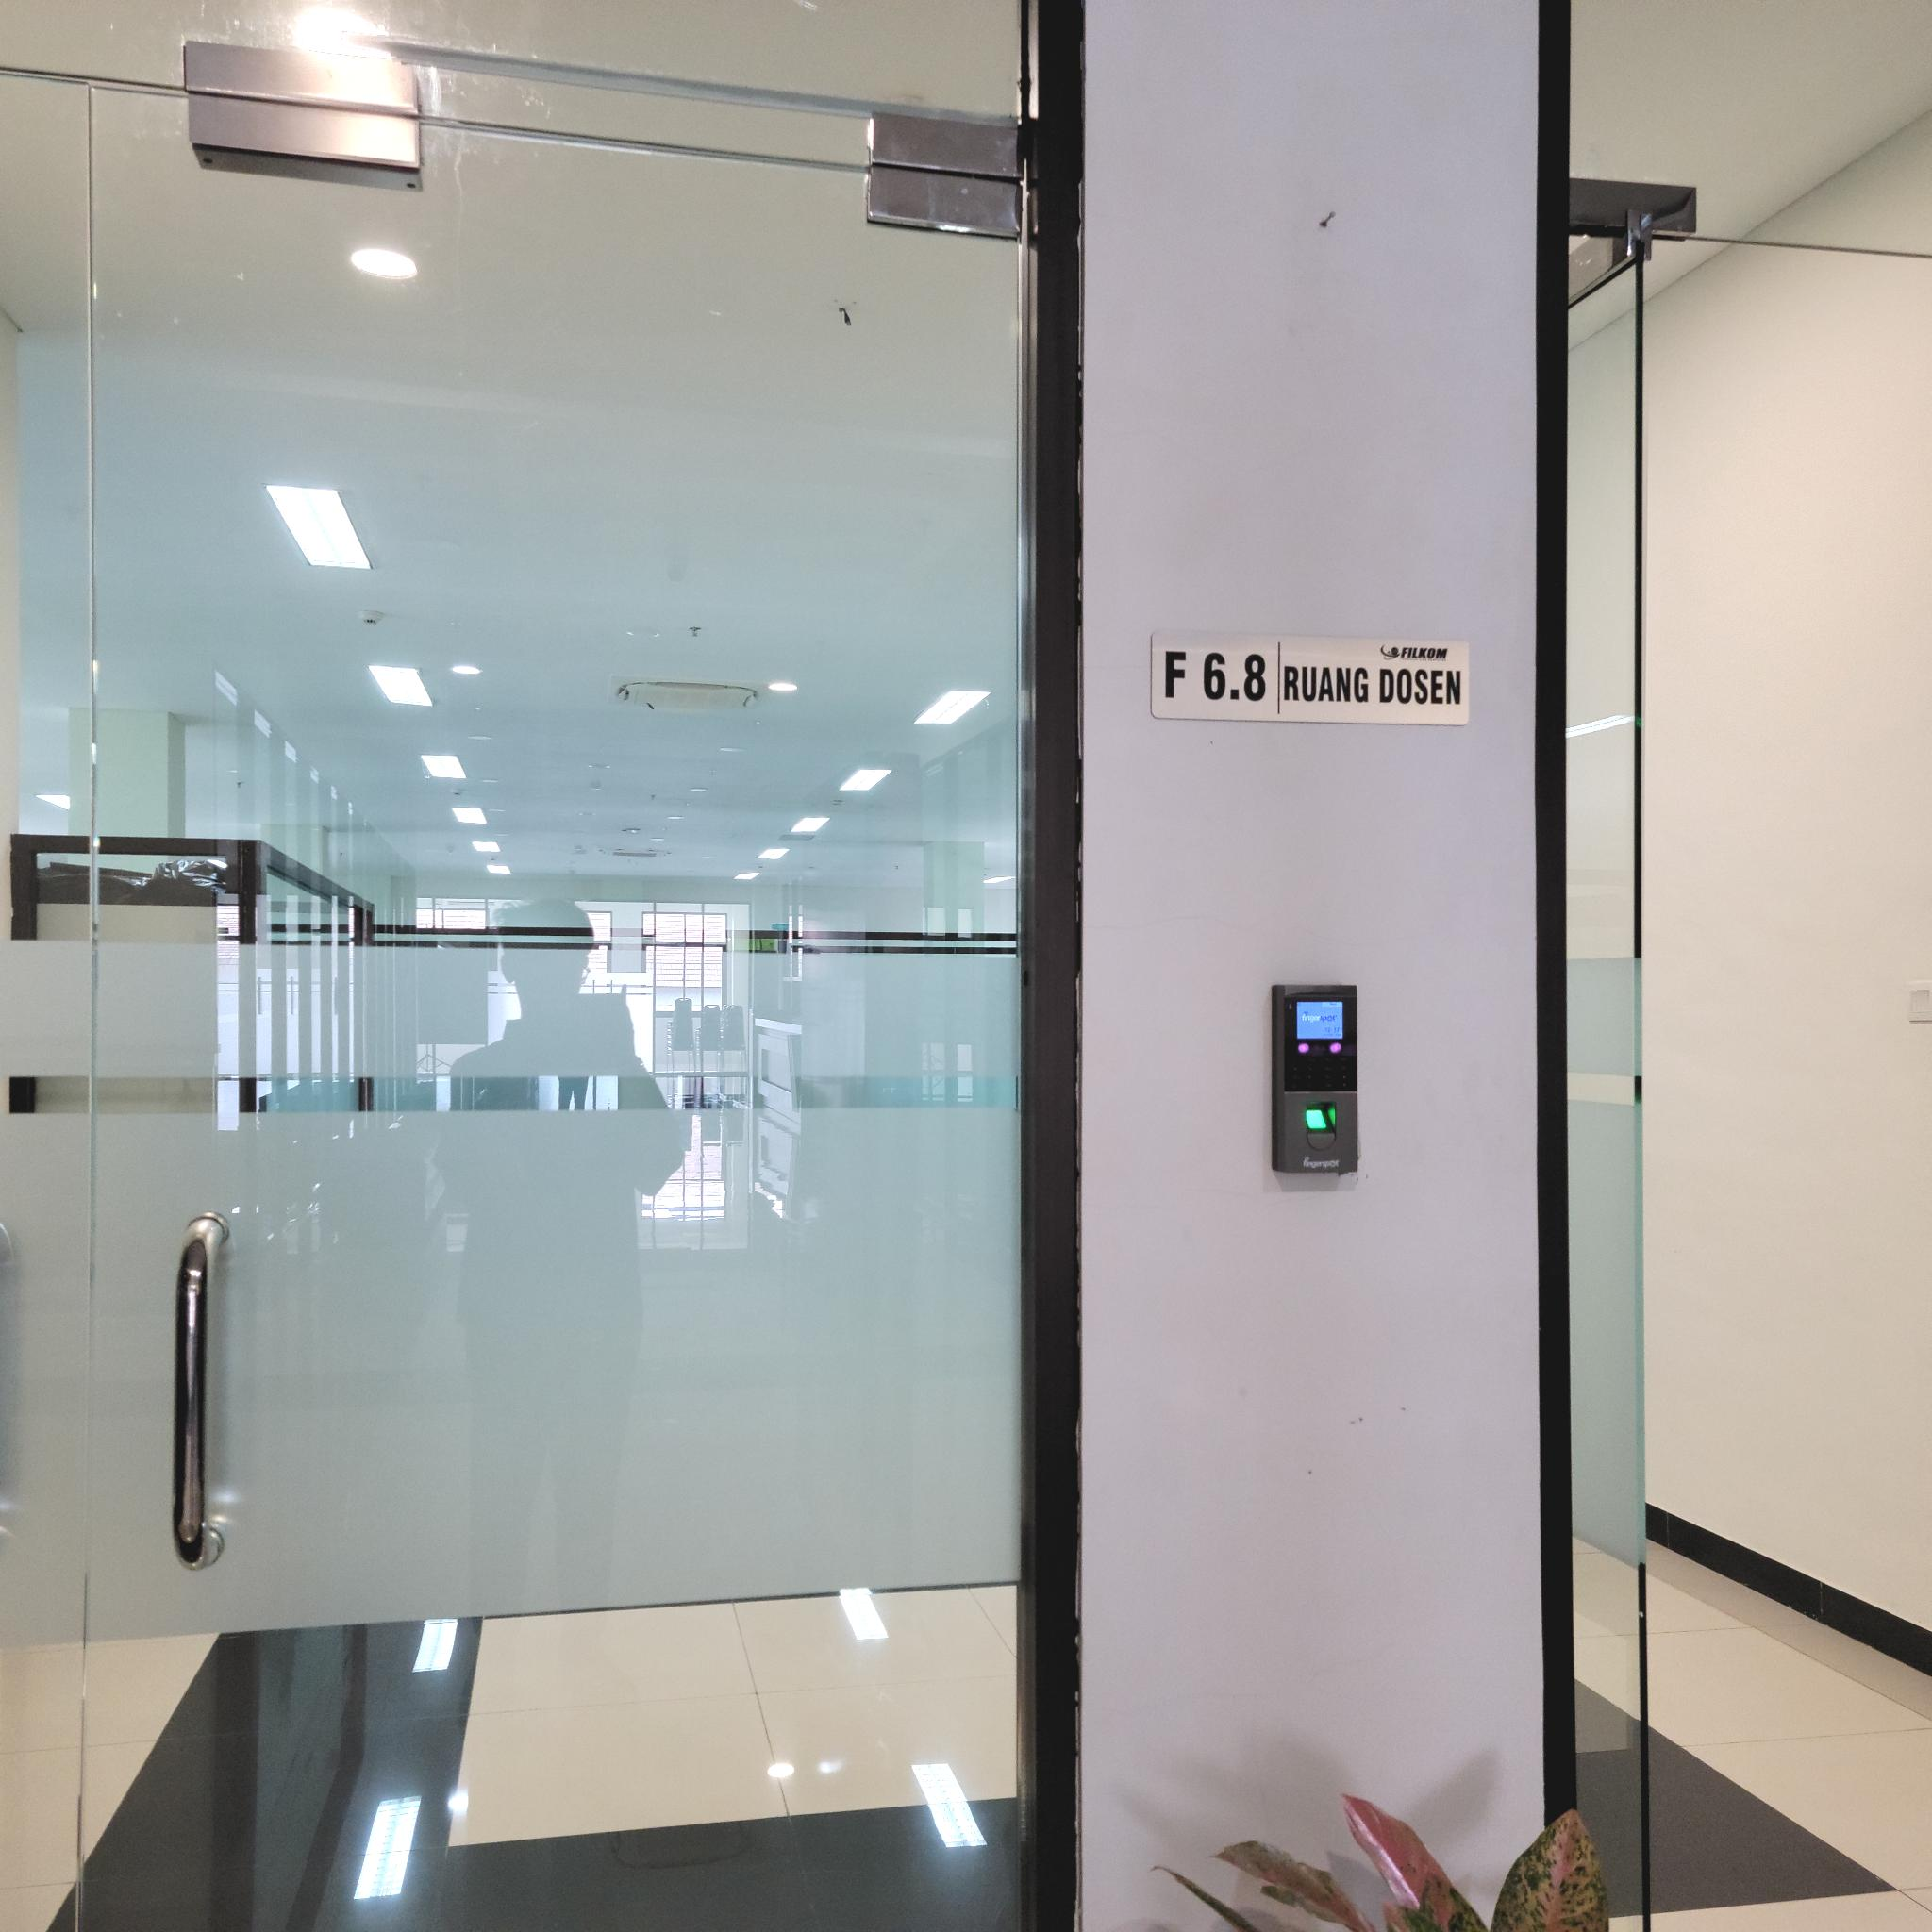plate: (1150, 630, 1470, 729)
